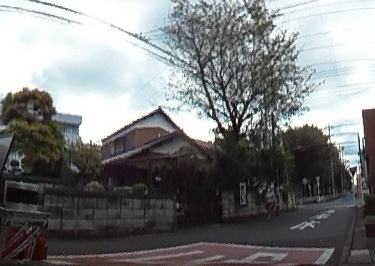person: (264, 186, 278, 213)
